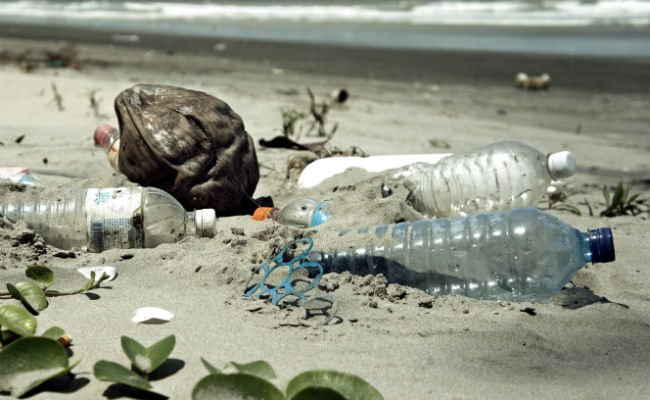bottle: (323, 209, 617, 304), (328, 141, 578, 209), (2, 187, 216, 252), (256, 199, 331, 225), (94, 124, 124, 175)
